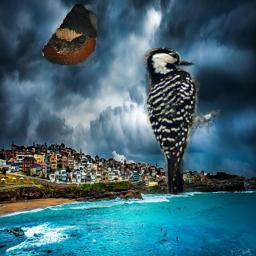Swallow: (42, 4, 97, 66)
Woodpecker: (142, 44, 221, 196)
